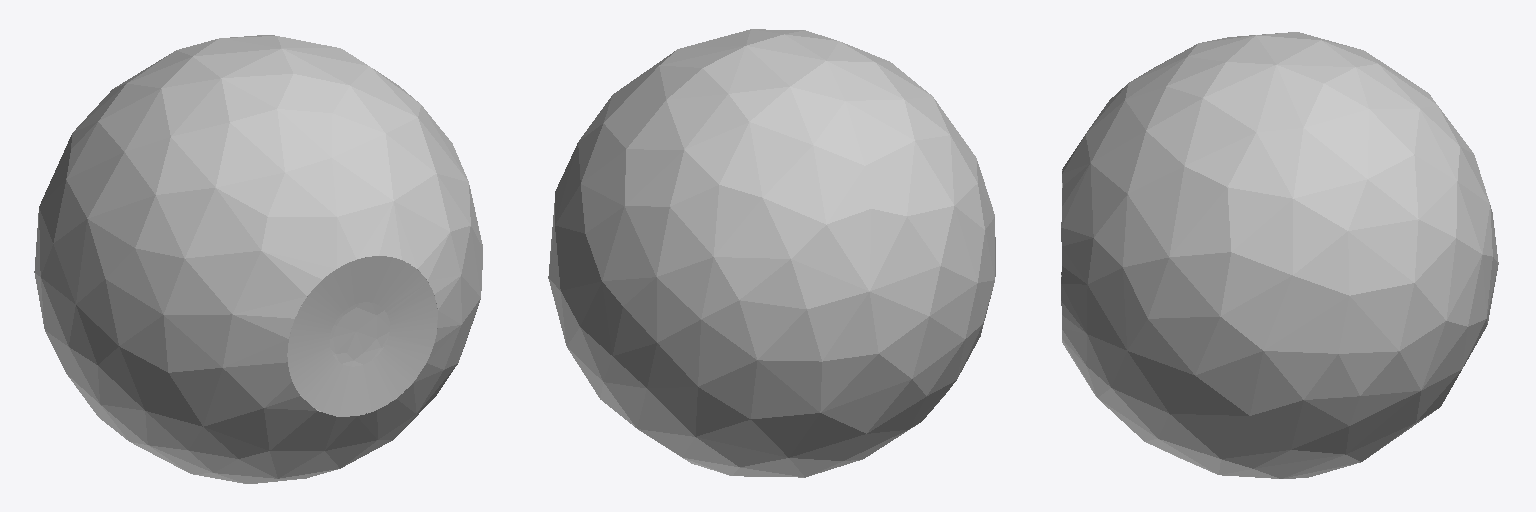
The model's file is eyeball_model_simplified.obj.
3 views of the same model, side by side, from view 1: azimuth 30°, elevation 25°; view 2: azimuth 150°, elevation 25°; view 3: azimuth 270°, elevation 25° (orthographic).
Parts seen in each view (by area): view 1: eyeball_1_eye_1, eyeball_1.002_eye_1.002, eyeball_1.001_eye_1.001; view 2: eyeball_1_eye_1; view 3: eyeball_1_eye_1.
Part boxes in pixels (x1,y1,x2,y2): eyeball_1_eye_1: (34, 35, 482, 483); eyeball_1.002_eye_1.002: (287, 256, 437, 416); eyeball_1.001_eye_1.001: (287, 257, 437, 411); eyeball_1_eye_1: (548, 29, 995, 477); eyeball_1_eye_1: (1061, 32, 1498, 478).
Size of the model in its own units: 3.88 by 3.86 by 3.77.